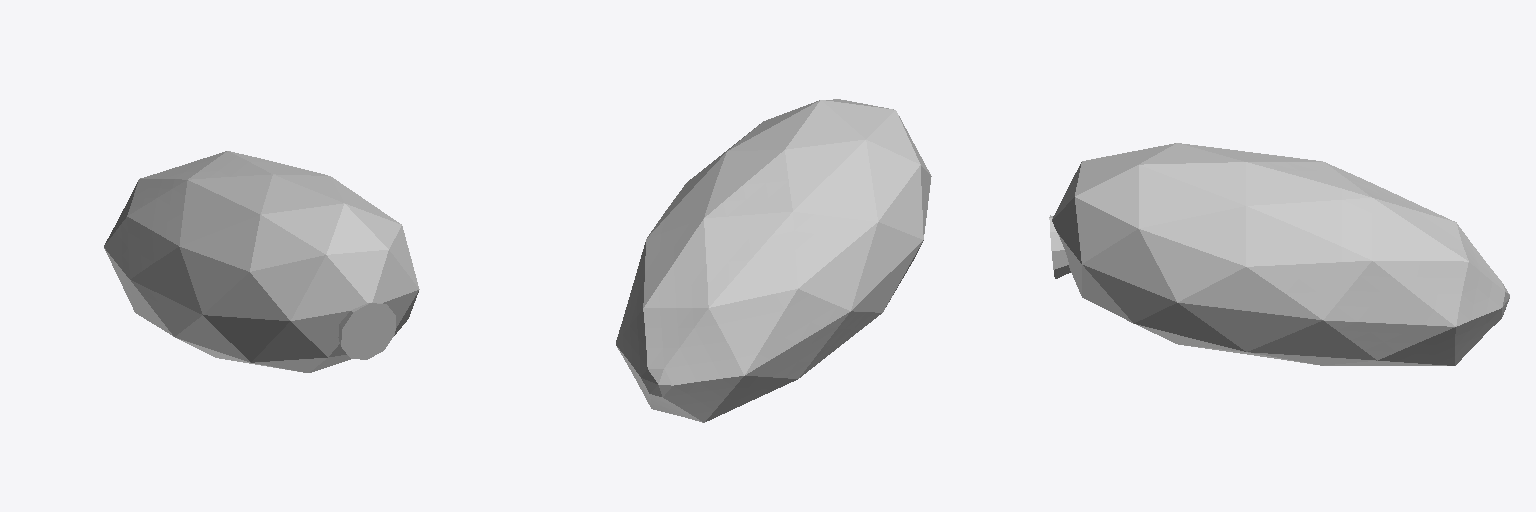
Rendered from spacepod.obj.
3 views of the same model, side by side, from view 1: azimuth 30°, elevation 25°; view 2: azimuth 150°, elevation 25°; view 3: azimuth 270°, elevation 25° (orthographic).
Parts seen in each view (by area): view 1: Mesh; view 2: Mesh; view 3: Mesh.
Boxes of the visible parts, <box> form: Mesh: <box>104,151,419,372</box>; Mesh: <box>616,99,931,422</box>; Mesh: <box>1049,143,1509,365</box>.
Size of the model in its own units: 1.89 by 1.73 by 3.61.